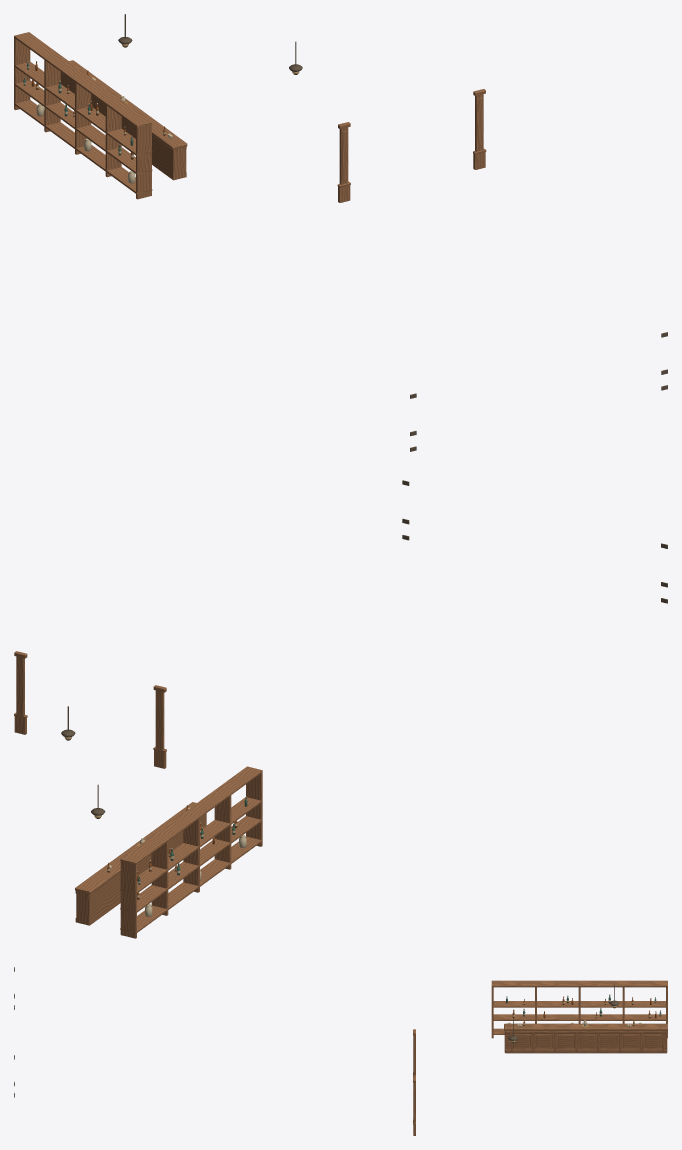
The model's file is frontier-saloon.glb.
The picture shows the model from 3 angles, top to bottom: view 1: azimuth 30°, elevation 25°; view 2: azimuth 150°, elevation 25°; view 3: azimuth 270°, elevation 25°; orthographic projection. The views are drawn at different scales.
Parts seen in each view (by area): view 1: Saloon worn walnut, Saloon walnut; view 2: Saloon worn walnut, Saloon walnut; view 3: Saloon worn walnut, Saloon walnut.
Part boxes in pixels (x1=…): Saloon worn walnut: x1=14, y1=32, x2=486, y2=194; Saloon walnut: x1=14, y1=38, x2=485, y2=202; Saloon worn walnut: x1=14, y1=651, x2=262, y2=933; Saloon walnut: x1=14, y1=656, x2=262, y2=938; Saloon worn walnut: x1=413, y1=980, x2=667, y2=1124; Saloon walnut: x1=413, y1=987, x2=667, y2=1135.
Bounding box in the file's own units: 11.64 × 3.27 × 25.94.
9 materials, 2 textured.
